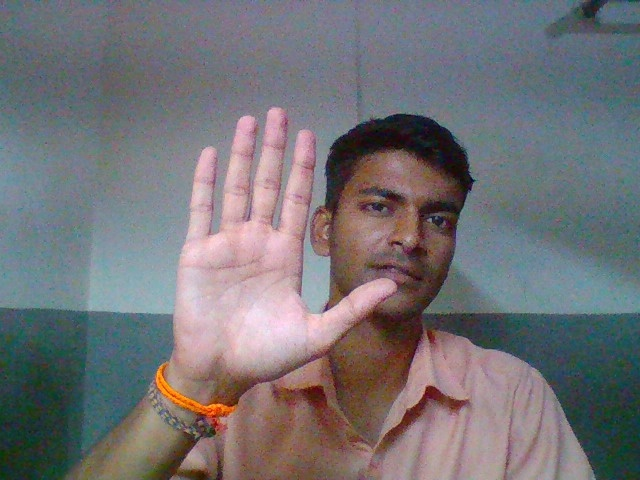Hello: (152, 93, 401, 393)
